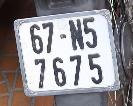5: (80, 16, 100, 49), (87, 51, 104, 85)
6: (28, 23, 45, 56), (51, 56, 67, 88)
7: (39, 21, 58, 55), (32, 55, 49, 90), (68, 54, 84, 88)
N: (68, 16, 86, 52)
